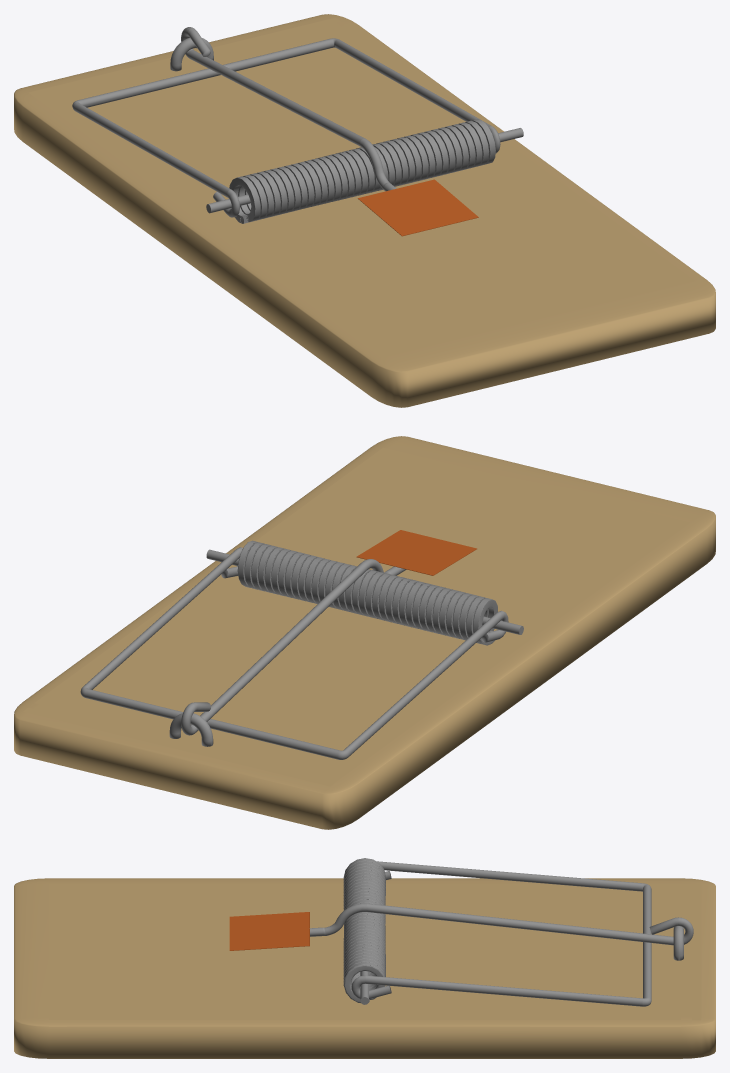
File: mouse_trap.glb
3 views of the same model, one above another, from view 1: azimuth 30°, elevation 25°; view 2: azimuth 150°, elevation 25°; view 3: azimuth 270°, elevation 25° (orthographic). The views are drawn at different scales.
Parts seen in each view (by area): view 1: Cube_7, Cylinder_6, Cylinder.002_4, Plane_8, Cylinder.003_3, Cylinder.001_5; view 2: Cube_7, Cylinder_6, Cylinder.002_4, Cylinder.003_3, Plane_8, Cylinder.004_2; view 3: Cube_7, Cylinder.002_4, Cylinder_6, Cylinder.003_3, Plane_8, Cylinder.004_2.
Boxes of the visible parts, x1=… form: Cube_7: x1=14, y1=14, x2=715, y2=407; Cylinder_6: x1=229, y1=119, x2=495, y2=223; Cylinder.002_4: x1=72, y1=38, x2=500, y2=217; Plane_8: x1=358, y1=179, x2=478, y2=236; Cylinder.003_3: x1=181, y1=27, x2=396, y2=191; Cylinder.001_5: x1=206, y1=128, x2=523, y2=213; Cube_7: x1=14, y1=436, x2=715, y2=829; Cylinder_6: x1=237, y1=540, x2=497, y2=645; Cylinder.002_4: x1=80, y1=547, x2=508, y2=759; Cylinder.003_3: x1=181, y1=559, x2=406, y2=735; Plane_8: x1=356, y1=530, x2=476, y2=575; Cylinder.004_2: x1=169, y1=713, x2=213, y2=746; Cube_7: x1=14, y1=878, x2=715, y2=1058; Cylinder.002_4: x1=351, y1=861, x2=651, y2=1006; Cylinder_6: x1=343, y1=858, x2=385, y2=1003; Cylinder.003_3: x1=309, y1=903, x2=693, y2=945; Plane_8: x1=229, y1=912, x2=309, y2=950; Cylinder.004_2: x1=673, y1=926, x2=683, y2=960.
Size of the model in its own units: 2 by 0.5179 by 4.
